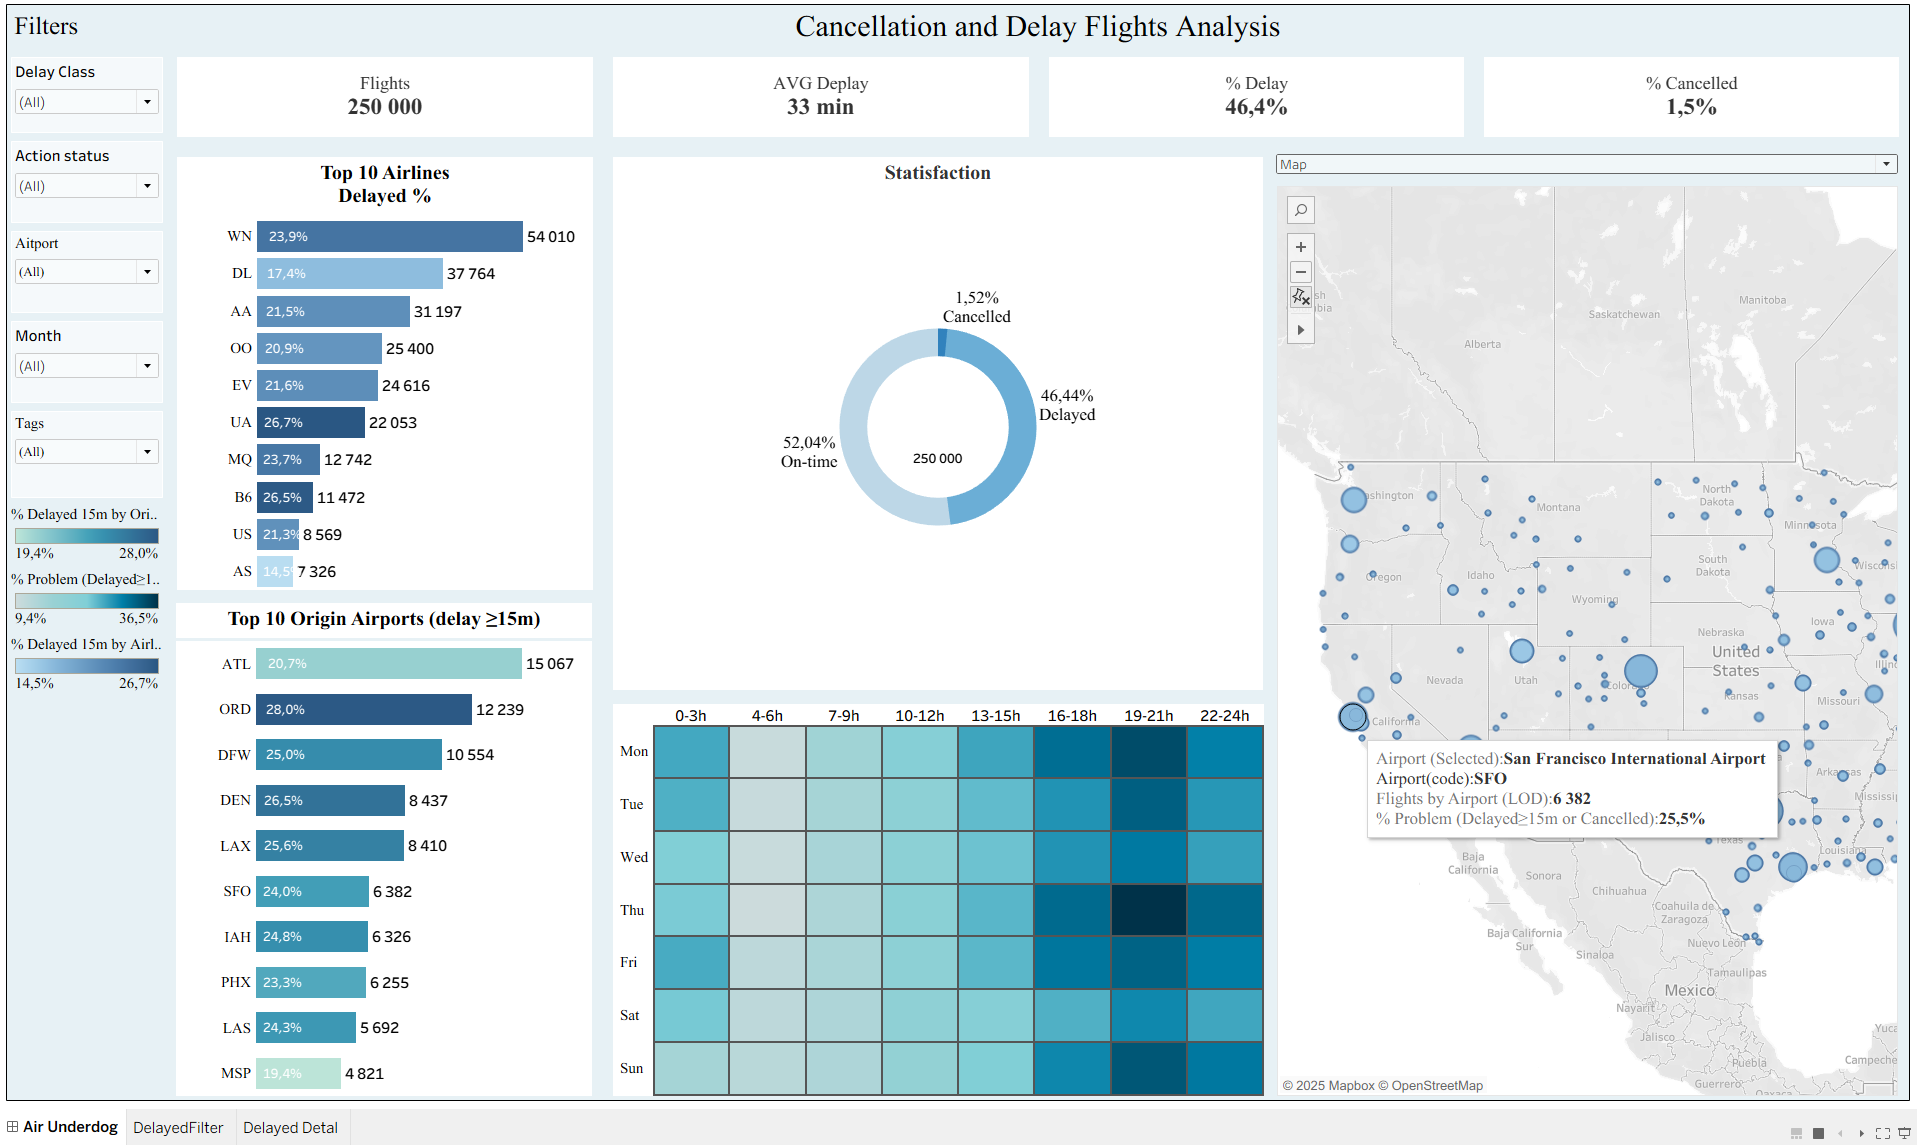

Layout of this report page (visuals, bound fields, positions):
{"tool":"tableau","page":{"name":"Air Underdog","canvas":[1600,900],"ordinal":0},"visuals":[{"type":"text","box":[9,9,160,42]},{"type":"text","box":[169,9,1422,42]},{"type":"filter","title":"Statisfaction","param":"[federated.1hv3qde1ofenso1ep36o11guu0ek].[none:Calculation_911978980892692481:nk","box":[9,51,160,90]},{"type":"worksheet","title":"Number of Passengers","mark":"Automatic","box":[169,51,356,100]},{"type":"worksheet","title":"Average Arrival Delay","mark":"Automatic","box":[525,51,356,100]},{"type":"worksheet","title":"Average Departure Delay","mark":"Automatic","box":[881,51,355,100]},{"type":"worksheet","title":"Average Flight Distance","mark":"Automatic","box":[1236,51,355,100]},{"type":"filter","title":"Timeline","param":"[federated.1hv3qde1ofenso1ep36o11guu0ek].[Action (Status (bucket))]","box":[9,141,160,90]},{"type":"worksheet","title":"Top 10 Air","mark":"Bar","rows":["Airline"],"cols":["Calculation_1501669056712376346","Calculation_1509550356877598720"],"box":[169,151,355.7,352]},{"type":"worksheet","title":"Statisfaction","mark":"Pie","rows":["Calculation_1501669056699928599","Calculation_1501669056699961369"],"box":[524.7,151,430.3,340]},{"type":"parameter","param":"[Parameters].[Parameter 2]","box":[955,151,636,34]},{"type":"worksheet","title":"Timeline","mark":"Bar","rows":["Calculation_1501669056584040463","Calculation_1501669056717160476"],"cols":["Calculation_1501669056583946254"],"box":[955,185,636,1]},{"type":"worksheet","title":"Map","mark":"Circle","rows":["Calculation_1882786175480266769"],"cols":["Calculation_1882786175481008146"],"box":[955,186,636,705]},{"type":"filter","title":"Top 10 Origin Airports (delay ≥15m)","param":"[federated.1hv3qde1ofenso1ep36o11guu0ek].[attr:AIRPORT (airports.csv):nk]","box":[9,231,160,90]},{"type":"filter","title":"Timeline","param":"[federated.1hv3qde1ofenso1ep36o11guu0ek].[tmn:Calculation_1501669056583946254:ok","box":[9,321,160,90]},{"type":"filter","title":"DelayedF","param":"[federated.1hv3qde1ofenso1ep36o11guu0ek].[none:Calculation_739716295340027906:nk","box":[9,411,160,95]},{"type":"worksheet","title":"DelayedF","mark":"Square","rows":["Calculation_739716295340027906"],"cols":["Calculation_739716295339917313"],"box":[524.7,491,430.3,400]},{"type":"worksheet","title":"Top 10 Origin Airports (delay ≥15m)","mark":"Bar","rows":["Origin Airport"],"cols":["Calculation_1501669056712376346","Calculation_1509550356877598720"],"box":[169,503,355.7,387.9]},{"type":"legend","title":"Top 10 Origin Airports (delay ≥15m)","param":"[federated.1hv3qde1ofenso1ep36o11guu0ek].[usr:Calculation_1882786175389724672:qk","box":[9,506,160,65]},{"type":"legend","title":"DelayedF","param":"[federated.1hv3qde1ofenso1ep36o11guu0ek].[usr:Calculation_1882786175450505217:qk","box":[9,571,160,65]},{"type":"legend","title":"Top 10 Air","param":"[federated.1hv3qde1ofenso1ep36o11guu0ek].[usr:Calculation_1501669056717262877:qk","box":[9,636,160,65]}]}

Visuals, with their boxes on the page's 1600x900 design canvas (x1, y1, x2, y2). These are canvas units, not pixel positions in the 1917x1145 screenshot, which may show the page scaled, cropped or inside an application window:
text: bbox=(9, 9, 169, 51)
text: bbox=(169, 9, 1591, 51)
"Statisfaction" filter: bbox=(9, 51, 169, 141)
"Number of Passengers" worksheet: bbox=(169, 51, 525, 151)
"Average Arrival Delay" worksheet: bbox=(525, 51, 881, 151)
"Average Departure Delay" worksheet: bbox=(881, 51, 1236, 151)
"Average Flight Distance" worksheet: bbox=(1236, 51, 1591, 151)
"Timeline" filter: bbox=(9, 141, 169, 231)
"Top 10 Air" worksheet (Bar marks): bbox=(169, 151, 525, 503)
"Statisfaction" worksheet (Pie marks): bbox=(525, 151, 955, 491)
parameter: bbox=(955, 151, 1591, 185)
"Timeline" worksheet (Bar marks): bbox=(955, 185, 1591, 186)
"Map" worksheet (Circle marks): bbox=(955, 186, 1591, 891)
"Top 10 Origin Airports (delay ≥15m)" filter: bbox=(9, 231, 169, 321)
"Timeline" filter: bbox=(9, 321, 169, 411)
"DelayedF" filter: bbox=(9, 411, 169, 506)
"DelayedF" worksheet (Square marks): bbox=(525, 491, 955, 891)
"Top 10 Origin Airports (delay ≥15m)" worksheet (Bar marks): bbox=(169, 503, 525, 891)
"Top 10 Origin Airports (delay ≥15m)" legend: bbox=(9, 506, 169, 571)
"DelayedF" legend: bbox=(9, 571, 169, 636)
"Top 10 Air" legend: bbox=(9, 636, 169, 701)
